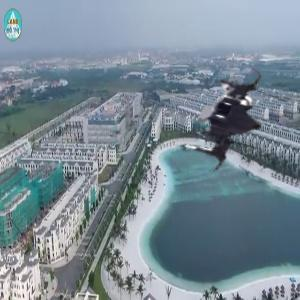drone: (166, 57, 292, 183)
